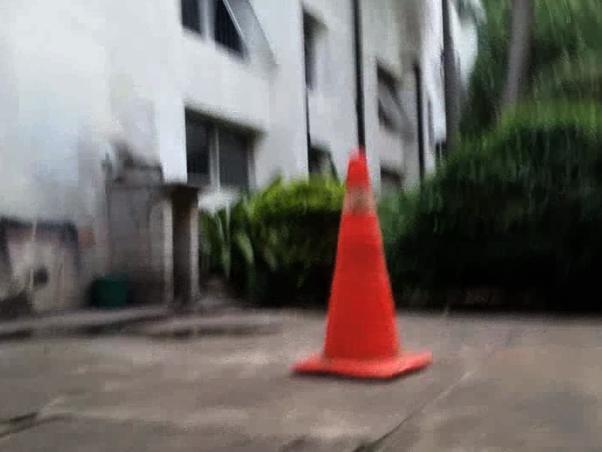0 cone: (291, 152, 433, 379)
